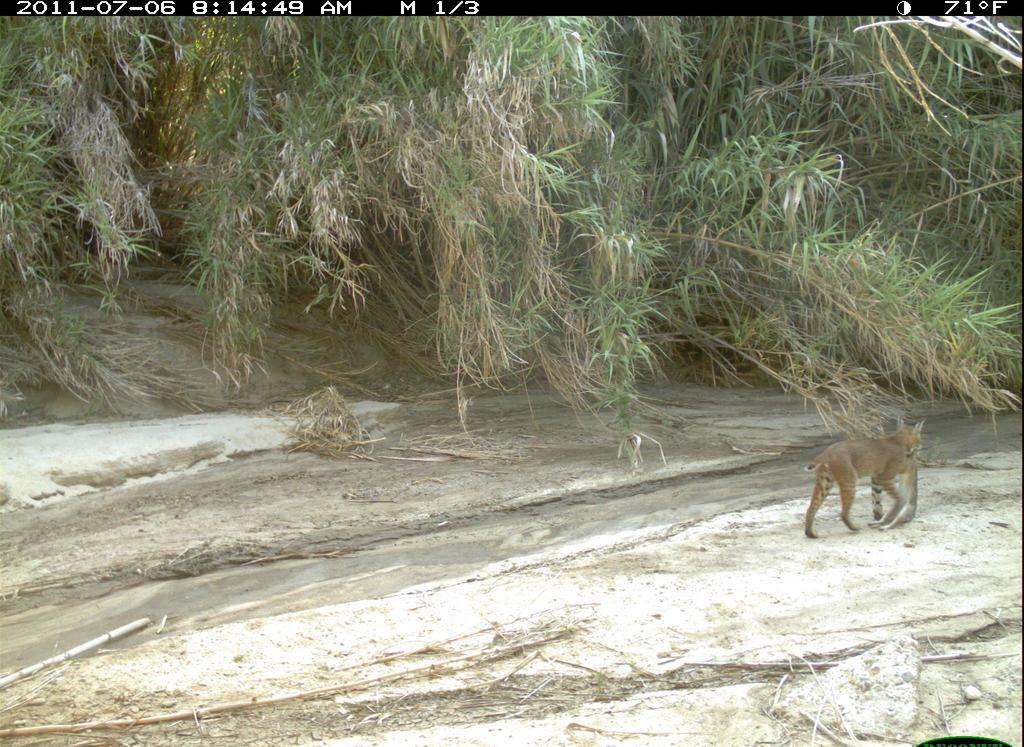bobcat: (799, 415, 932, 541)
